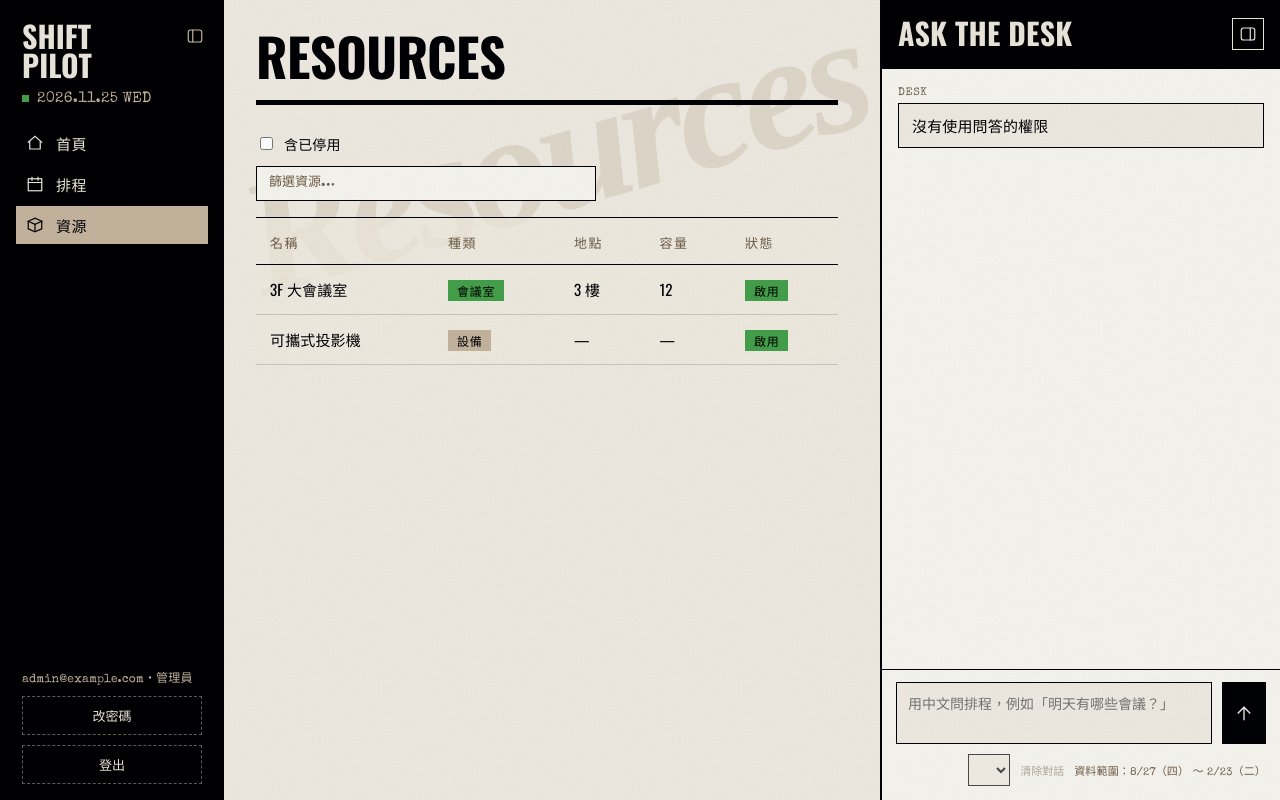
testEmployeeSeesNoWriteButtons
What coordinates should you click on to do the following:
click the text "3F 大會議室"
I would click on:
 (345, 290)
Its box is [256,265,434,315].
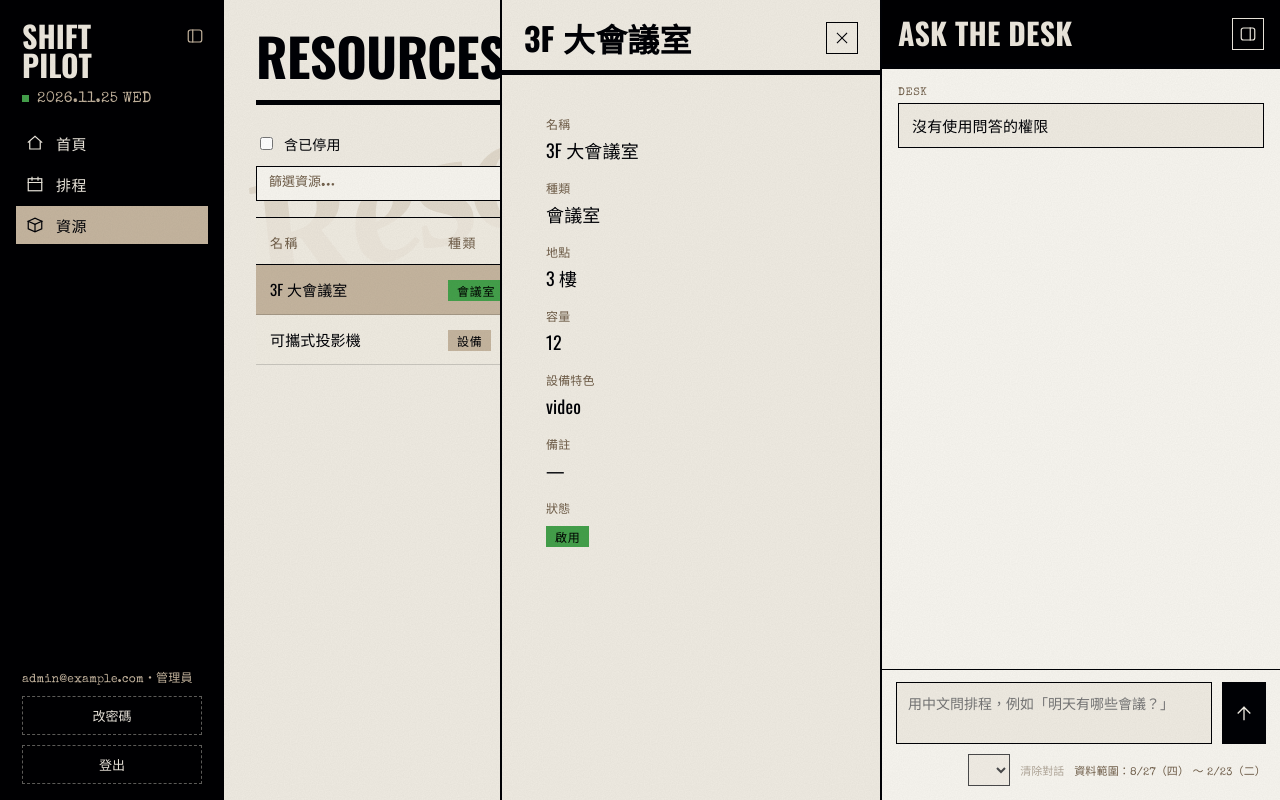
Now the text "設備特色" is shown, box [546,377,595,389]
